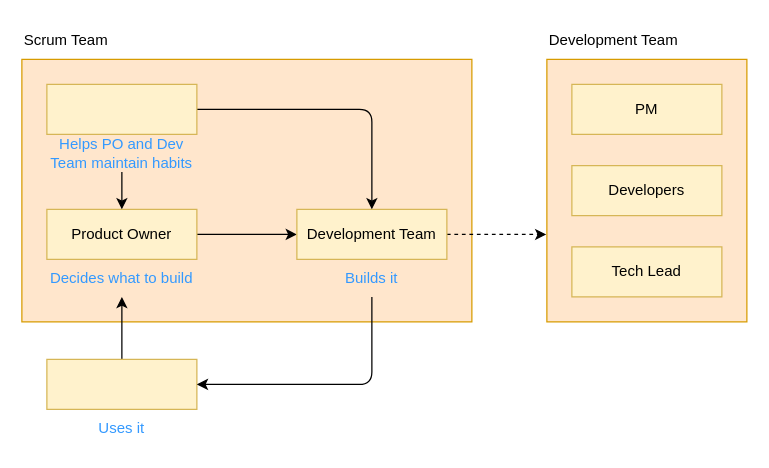
This 769x468 diagram has some shape labels left out. Here are the shapes that lost their labels. From the top down, the centre of each, then its label:
At (x=121, y=108): "Scrum Master".
At (x=121, y=383): "Customer".
